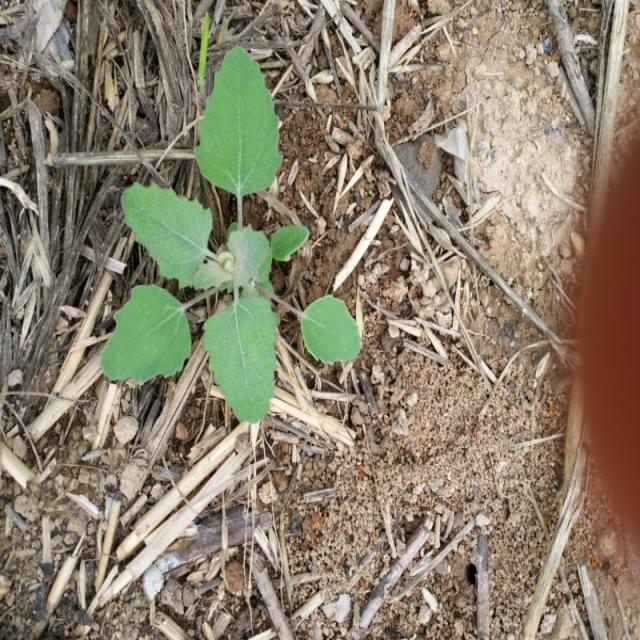ca: (103, 47, 357, 425)
